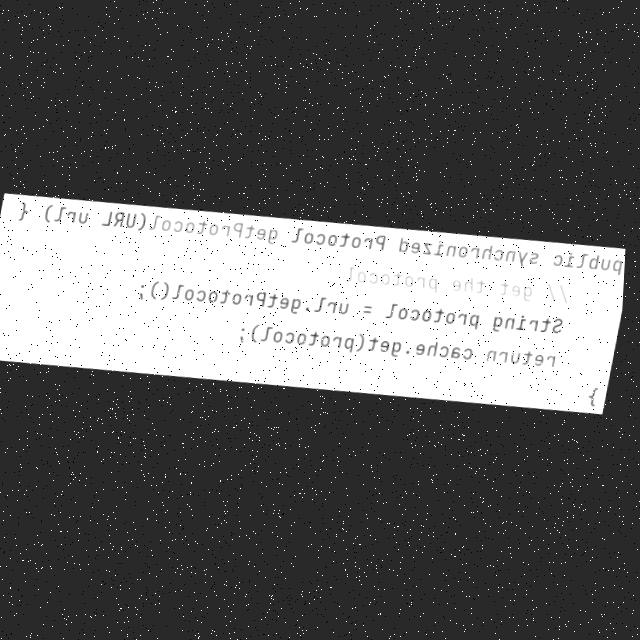code_screen: (0, 194, 625, 411)
